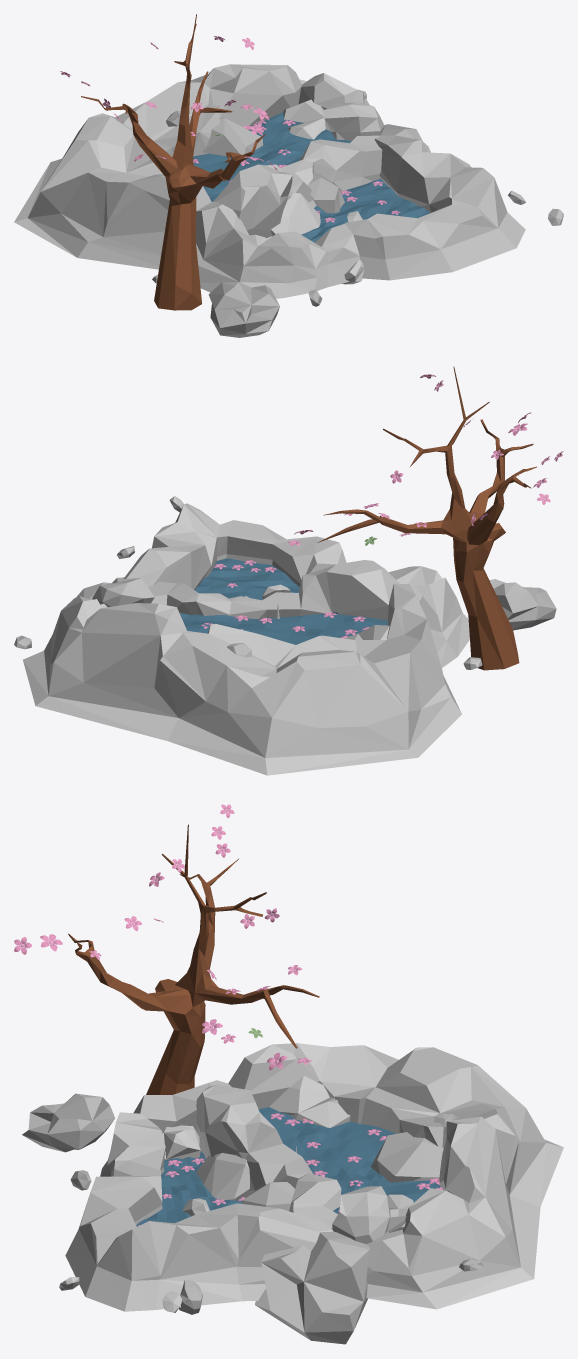
Rendered from Pond.dae.
3 views of the same model, one above another, from view 1: azimuth 30°, elevation 25°; view 2: azimuth 150°, elevation 25°; view 3: azimuth 270°, elevation 25° (orthographic). The views are drawn at different scales.
Parts seen in each view (by area): view 1: Cube, Vert, Cube.001, Cube.003, Plane.002, Plane.001, Cube.002, Cube.014, Cube.013, Cube.009, Cube.012, Cube.007; view 2: Cube, Vert, Cube.001, Plane.002, Plane.001, Cube.003, Cube.002; view 3: Cube, Vert, Cube.007, Cube.001, Plane.002, Cube.003, Cube.014, Cube.002, Plane.001, Cube.008, Cube.013, Cube.010 (+2 smaller).
Part boxes in pixels (bbox=[...]): Cube: bbox=[14, 64, 525, 298]; Vert: bbox=[81, 14, 265, 310]; Cube.001: bbox=[213, 135, 382, 238]; Cube.003: bbox=[208, 282, 279, 337]; Plane.002: bbox=[193, 112, 351, 201]; Plane.001: bbox=[301, 178, 430, 242]; Cube.002: bbox=[322, 102, 384, 140]; Cube.014: bbox=[202, 118, 263, 156]; Cube.013: bbox=[271, 193, 320, 236]; Cube.009: bbox=[283, 99, 331, 139]; Cube.012: bbox=[308, 172, 344, 213]; Cube.007: bbox=[381, 124, 422, 140]; Cube: bbox=[23, 503, 469, 775]; Vert: bbox=[317, 366, 536, 670]; Cube.001: bbox=[148, 560, 399, 620]; Plane.002: bbox=[179, 612, 387, 644]; Plane.001: bbox=[195, 558, 299, 600]; Cube.003: bbox=[489, 579, 556, 630]; Cube.002: bbox=[92, 578, 154, 607]; Cube: bbox=[65, 1043, 563, 1311]; Vert: bbox=[68, 824, 319, 1094]; Cube.007: bbox=[255, 1231, 369, 1344]; Cube.001: bbox=[196, 1084, 341, 1229]; Plane.002: bbox=[258, 1107, 440, 1213]; Cube.003: bbox=[22, 1093, 115, 1152]; Cube.014: bbox=[371, 1132, 443, 1182]; Cube.002: bbox=[332, 1186, 390, 1243]; Plane.001: bbox=[136, 1151, 245, 1226]; Cube.008: bbox=[269, 1076, 350, 1127]; Cube.013: bbox=[196, 1153, 249, 1200]; Cube.010: bbox=[162, 1125, 200, 1159].
Size of the model in its own units: 8.17 by 7.54 by 5.35.
